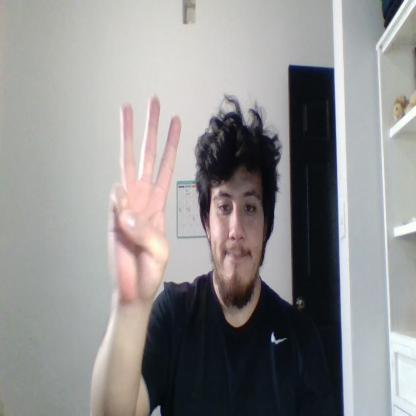W: (108, 96, 181, 302)
